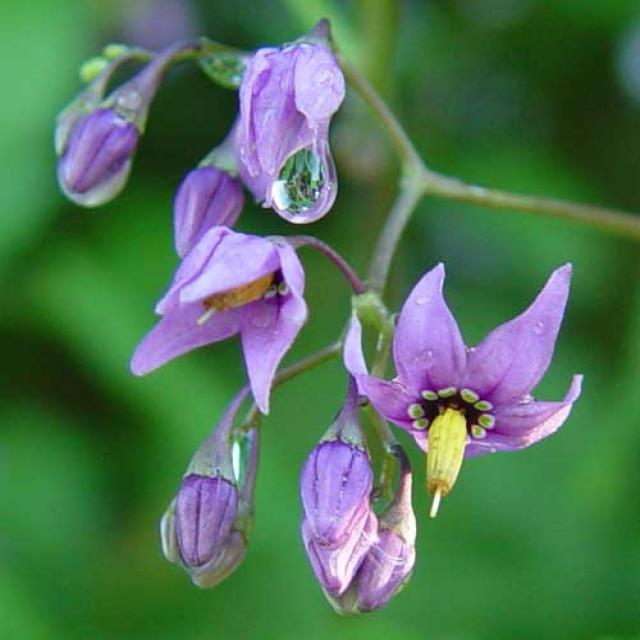Poisonous-Deadly_Nightshade: (155, 254, 589, 612), (49, 18, 384, 387)
